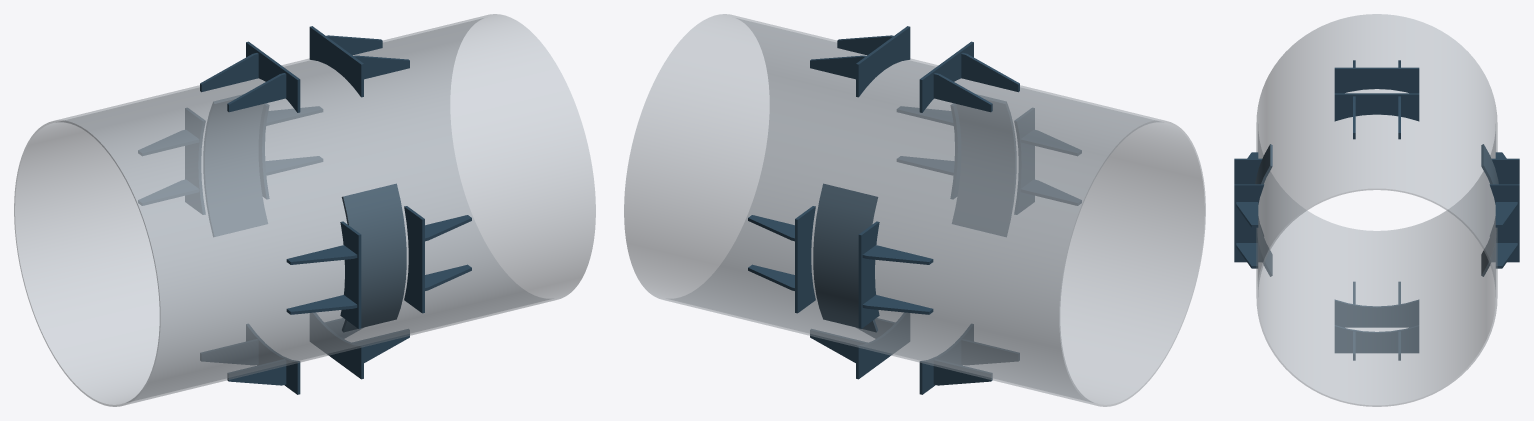
File: TS-668.00.00-12-opora-dn1420-ris1.glb
3 renders of one model, left to right at view 1: azimuth 30°, elevation 25°; view 2: azimuth 150°, elevation 25°; view 3: azimuth 270°, elevation 25°, orthographic. The views are drawn at different scales.
Parts seen in each view (by area): view 1: truba, bok_26, bok_25, upor_7, upor_1, upor_13, upor_10, upor_22, upor_4, upor_6, upor_5, upor_17 (+14 smaller); view 2: truba, bok_25, bok_26, upor_19, upor_1, upor_13, upor_22, upor_10, upor_4, upor_5, upor_6, upor_18 (+14 smaller); view 3: truba, upor_4, upor_16, upor_13, upor_1, upor_7, upor_19, bok_25, bok_26, upor_10, upor_22, upor_8 (+3 smaller).
Part boxes in pixels (<box>): truba: <box>14,14,595,406</box>; bok_26: <box>203,94,267,236</box>; bok_25: <box>341,183,406,332</box>; upor_7: <box>404,206,424,313</box>; upor_1: <box>309,26,363,97</box>; upor_13: <box>310,313,363,379</box>; upor_10: <box>340,221,361,328</box>; upor_22: <box>185,108,205,214</box>; upor_4: <box>246,41,300,112</box>; upor_6: <box>227,73,286,112</box>; upor_5: <box>200,53,258,92</box>; upor_17: <box>227,359,286,385</box>; truba: <box>624,14,1205,406</box>; bok_25: <box>952,94,1016,236</box>; bok_26: <box>813,183,878,332</box>; upor_19: <box>795,206,815,313</box>; upor_1: <box>856,26,910,97</box>; upor_13: <box>856,313,909,379</box>; upor_22: <box>858,221,879,328</box>; upor_10: <box>1014,108,1034,214</box>; upor_4: <box>919,41,973,112</box>; upor_5: <box>933,73,992,112</box>; upor_6: <box>961,53,1019,92</box>; upor_18: <box>933,359,992,385</box>; truba: <box>1256,14,1497,406</box>; upor_4: <box>1334,67,1419,93</box>; upor_16: <box>1334,299,1419,327</box>; upor_13: <box>1334,325,1419,353</box>; upor_1: <box>1334,93,1419,121</box>; upor_7: <box>1234,184,1264,262</box>; upor_19: <box>1489,184,1519,262</box>; bok_25: <box>1255,144,1272,276</box>; bok_26: <box>1481,144,1498,276</box>; upor_10: <box>1234,158,1263,235</box>; upor_22: <box>1490,158,1519,235</box>; upor_8: <box>1236,202,1258,227</box>.
Size of the model in its own units: 2432 by 1681 by 1681.
